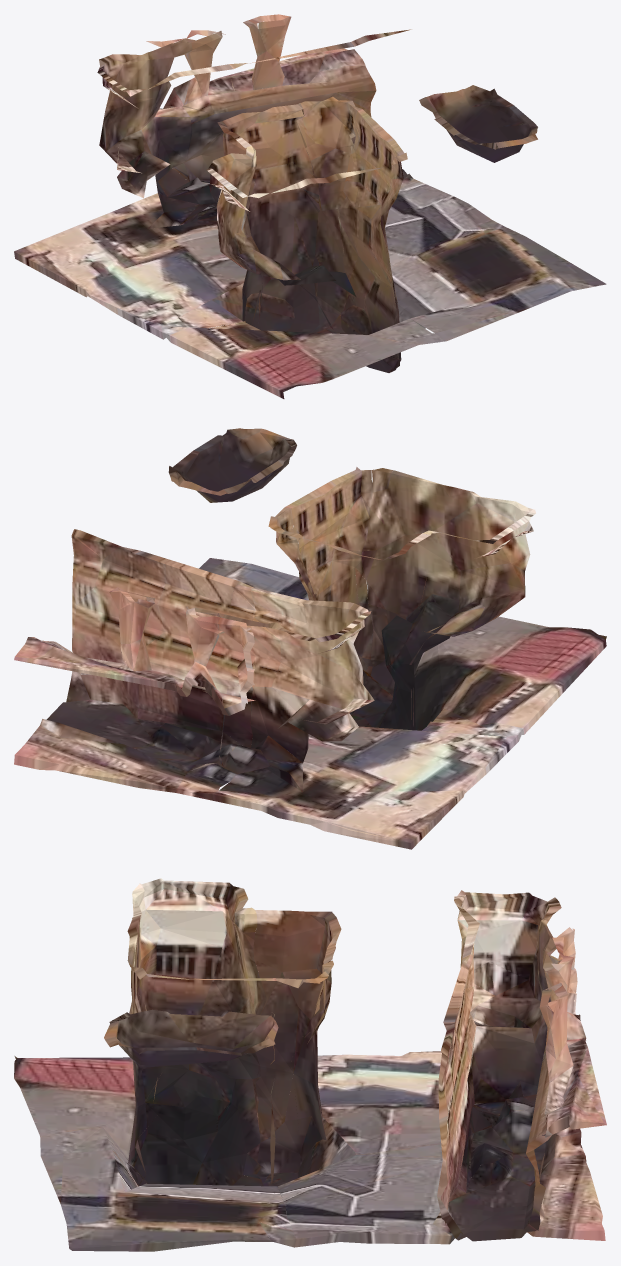
3 renders of one model, top to bottom at view 1: azimuth 30°, elevation 25°; view 2: azimuth 150°, elevation 25°; view 3: azimuth 270°, elevation 25°, orthographic. The views are drawn at different scales.
Parts seen in each view (by area): view 1: Mesh_0; view 2: Mesh_0; view 3: Mesh_0.
Part boxes in pixels (x1,y1,x2,y2): Mesh_0: (14, 14, 606, 398); Mesh_0: (14, 428, 606, 849); Mesh_0: (14, 878, 606, 1251).
Bounding box in the file's own units: 32.68 × 17.33 × 36.36.
Materials: 2 (2 with a texture image).
